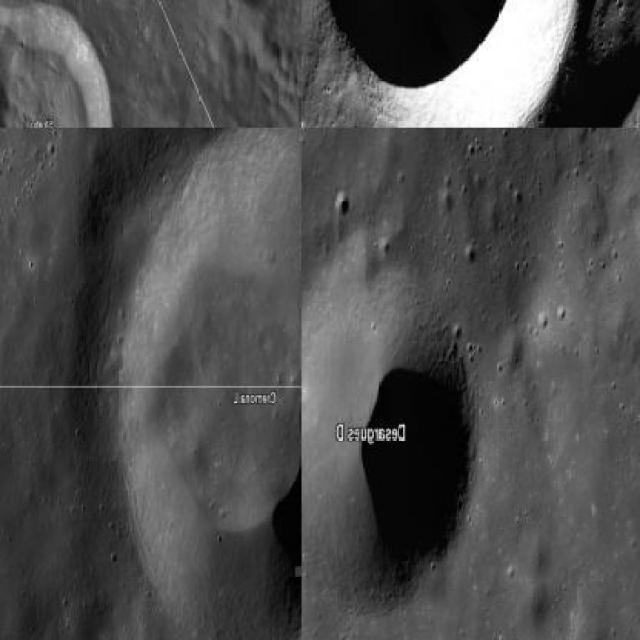crater: (109, 127, 302, 638), (303, 237, 474, 611), (322, 0, 578, 126), (2, 0, 113, 126)
